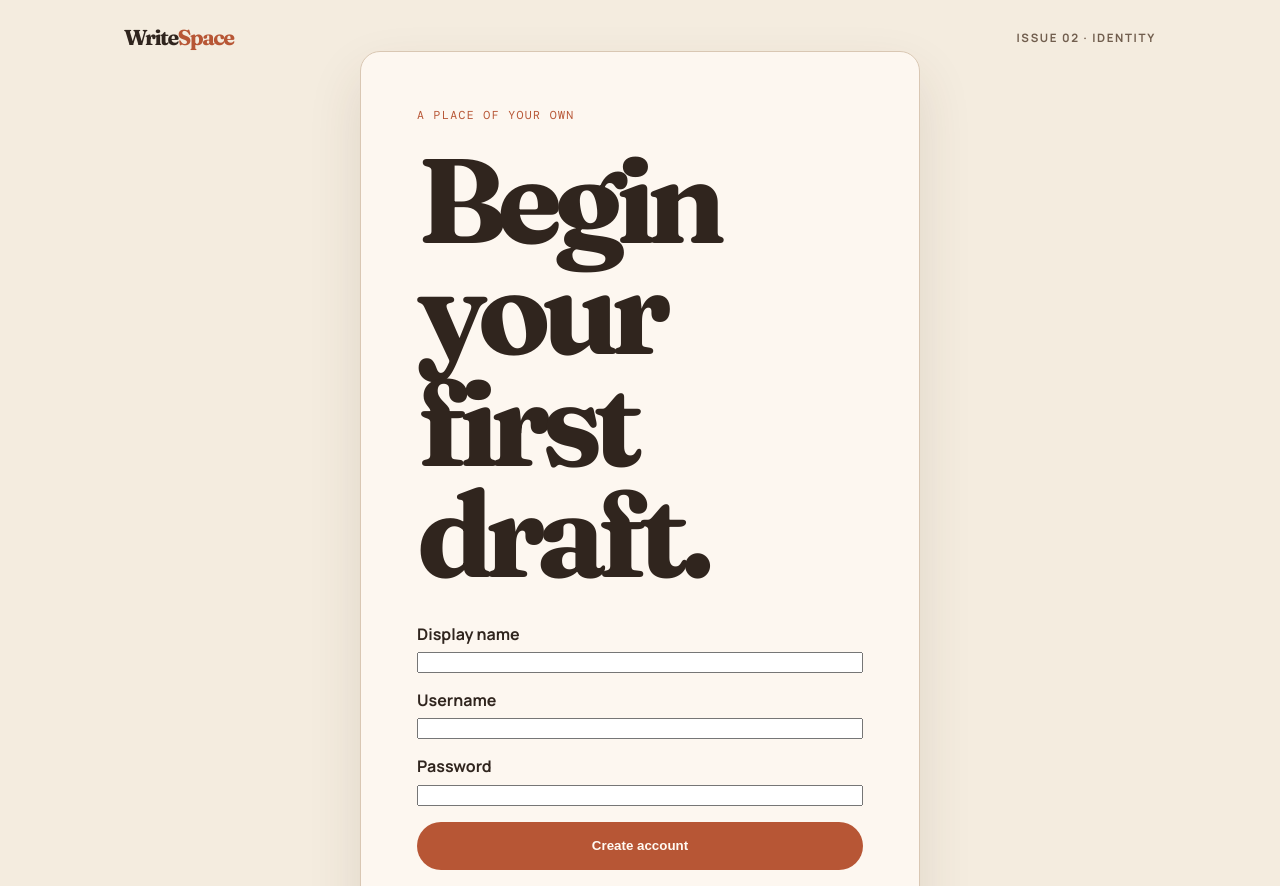
Scenario: AuthPage › shows a visible error for an invalid registration username
In the field labelled "Display name": (640, 663) [417,652,863,673], type "Ada Lovelace"
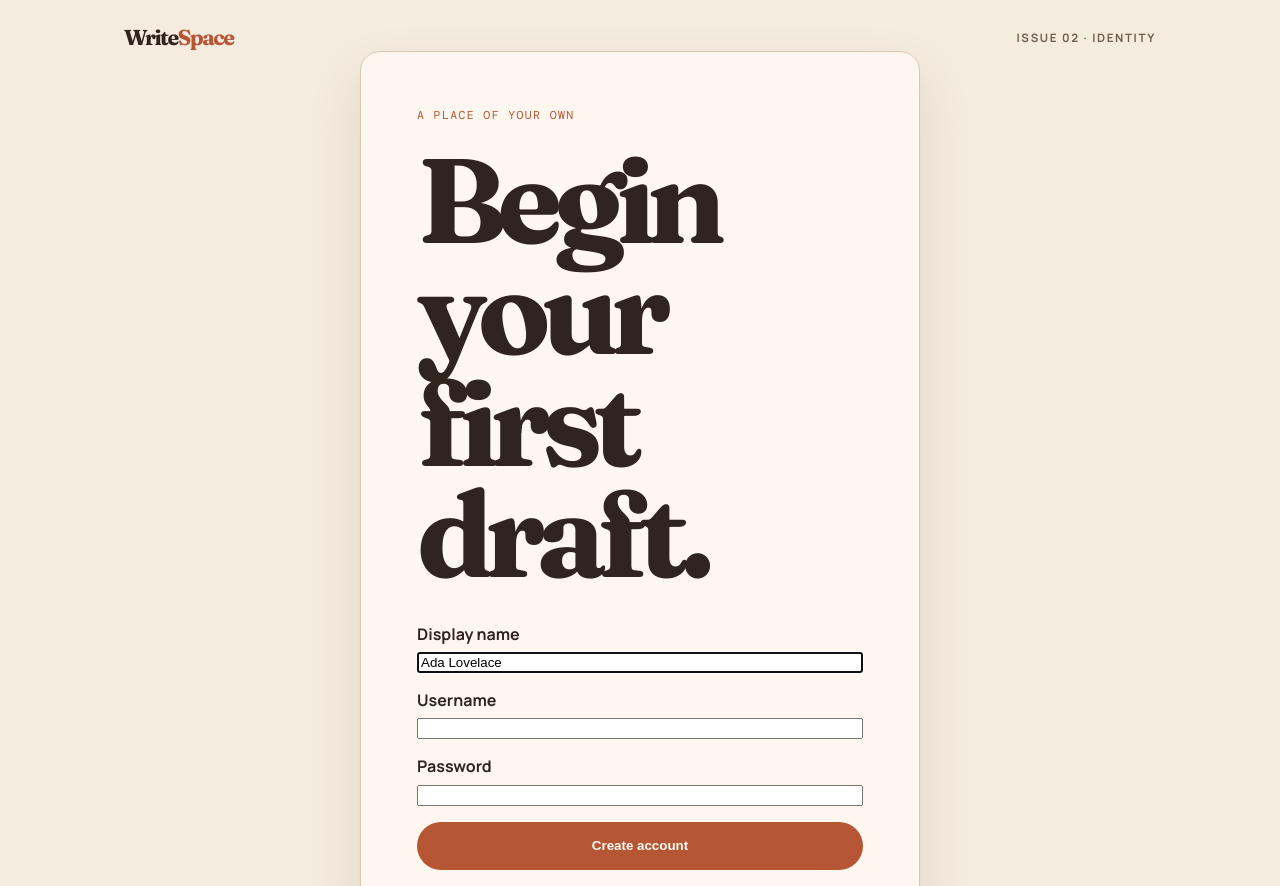
In the field labelled "Username": (640, 729) [417,718,863,739], type "ada!"
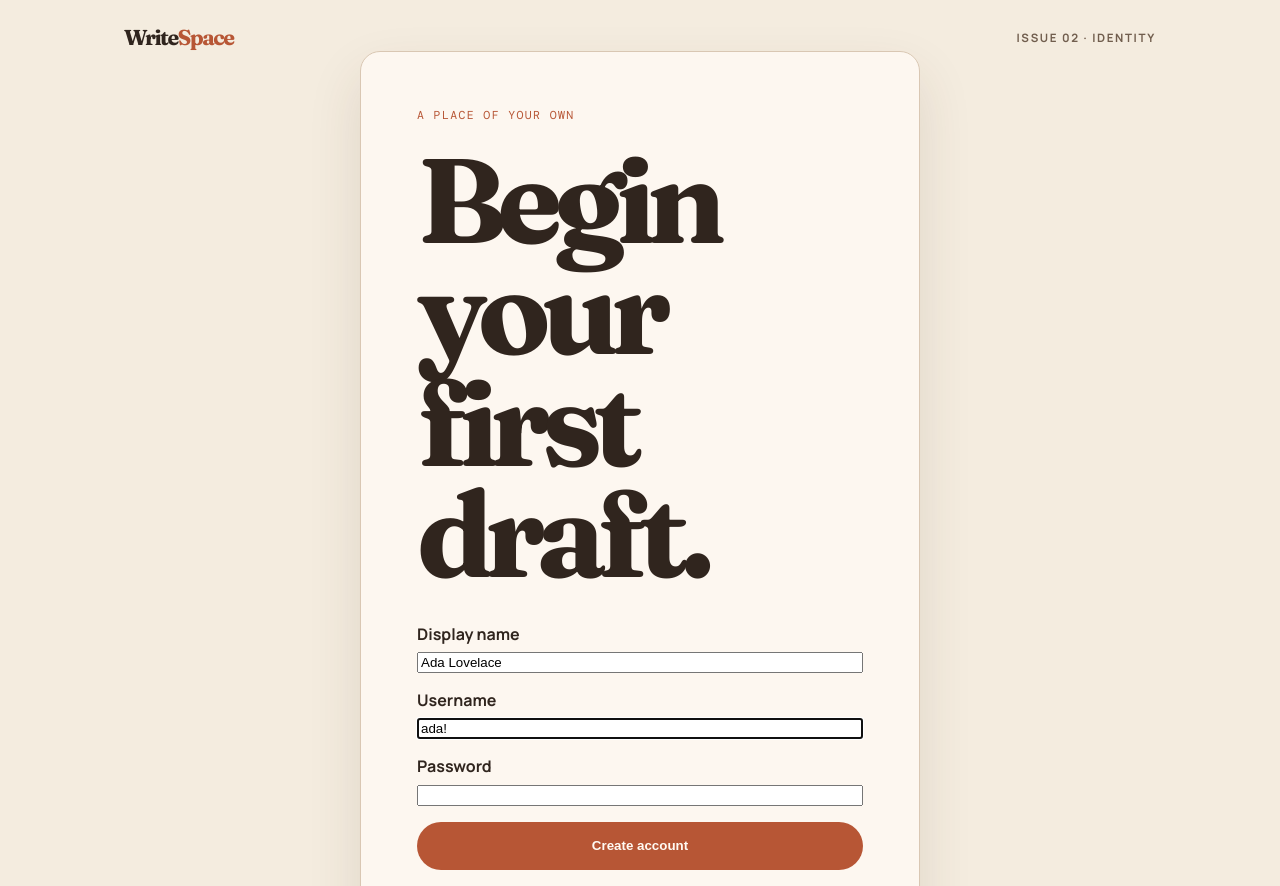
In the password field labelled "Password": (640, 795) [417,784,863,806], type "CorrectHorseBattery9"
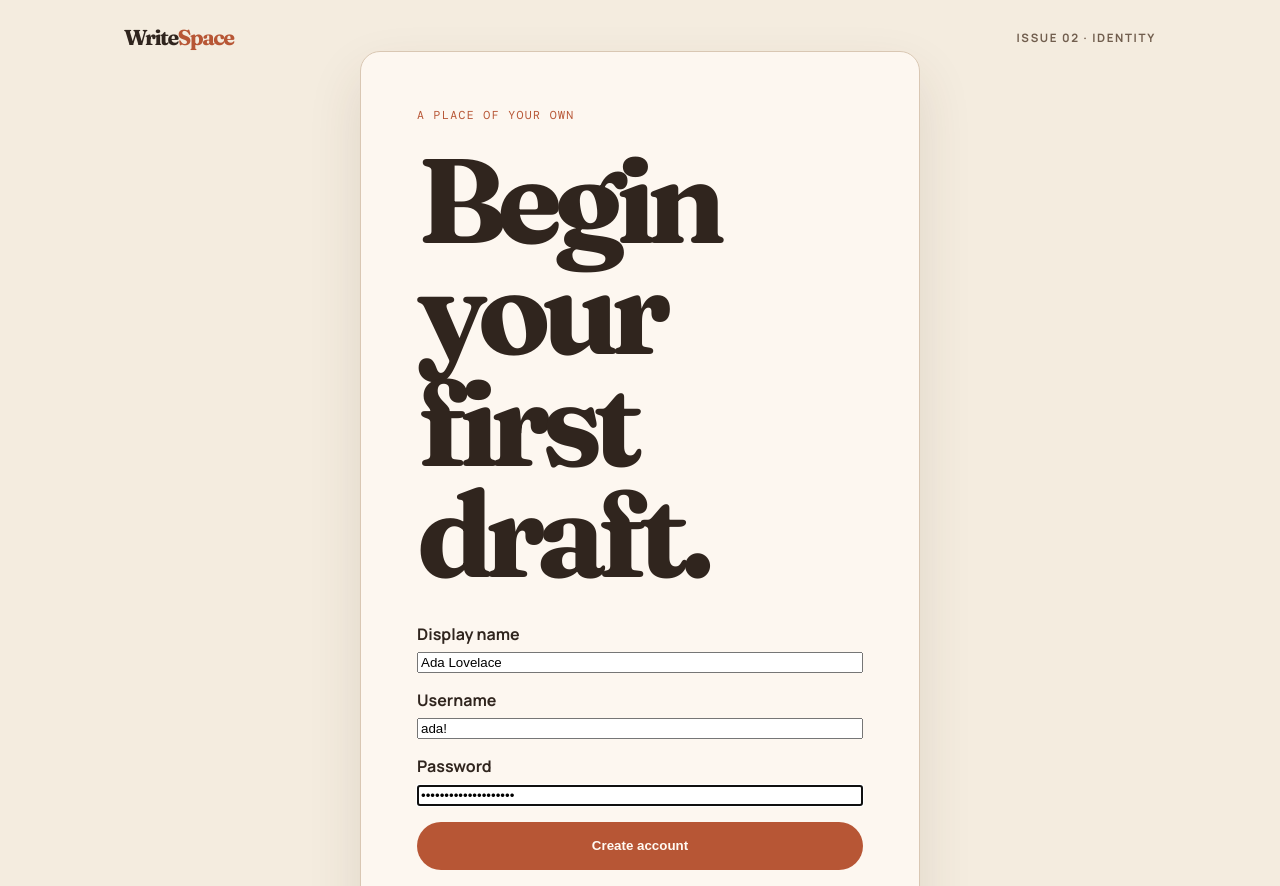
Click the button "Create account": (640, 846) [417,822,863,870]
(page scrolled)
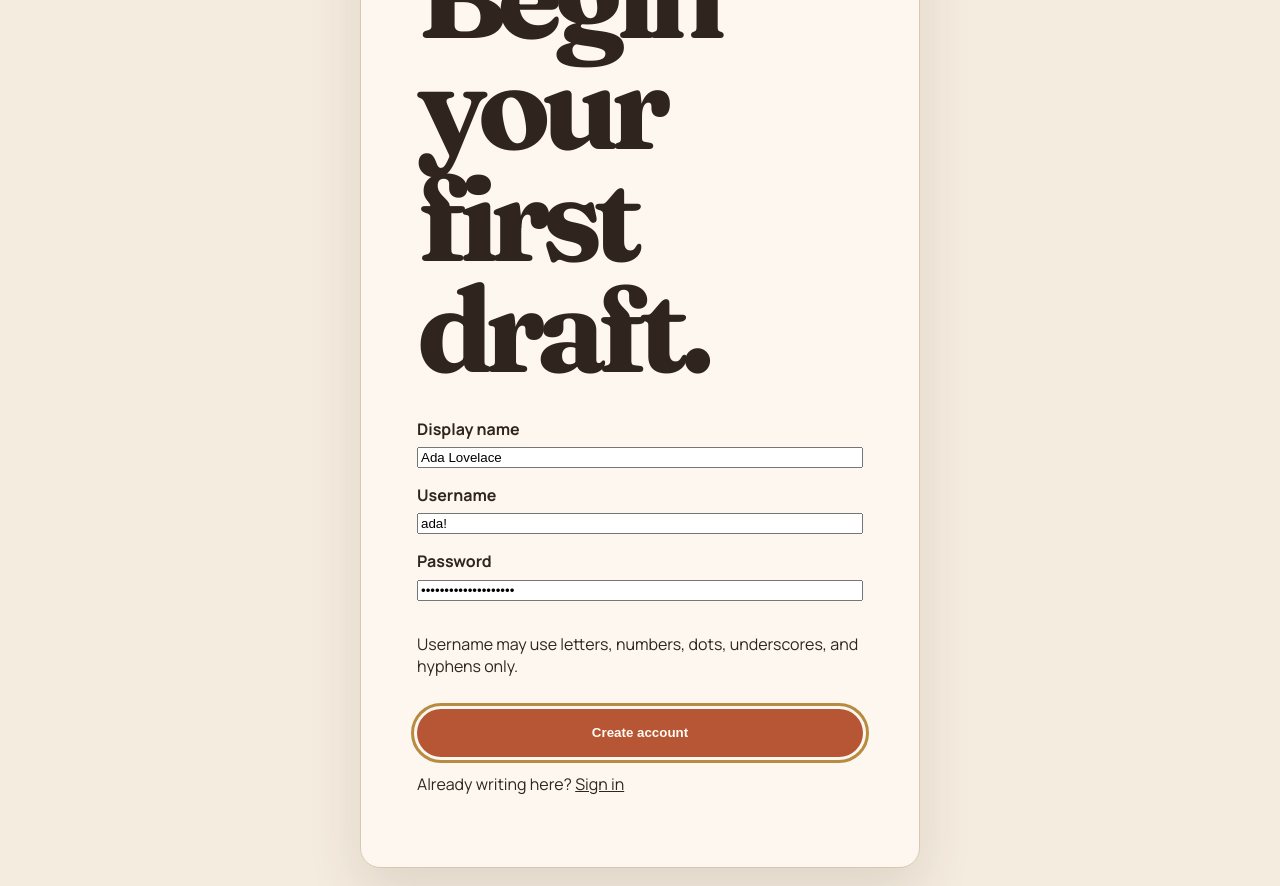
expect the button "Create account" is enabled: met, box [417,708,863,756]
expect the message shows "Username": met, box [417,632,858,676]
